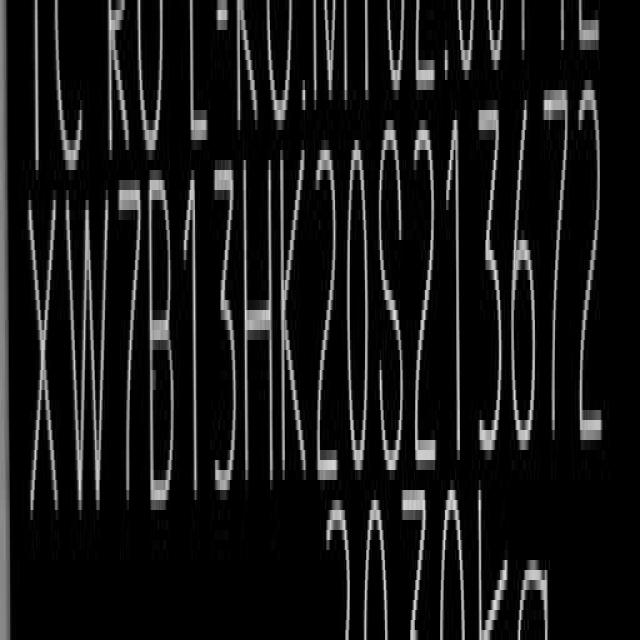0: (343, 130, 369, 463)
1: (181, 170, 203, 497), (444, 108, 464, 460)
2: (576, 66, 606, 478), (412, 115, 440, 489), (316, 134, 338, 482)
3: (208, 137, 239, 493), (477, 97, 504, 470)
6: (507, 92, 539, 466)
7: (542, 74, 572, 459), (116, 170, 142, 504)
B: (145, 163, 176, 511)
H: (240, 145, 278, 485)
K: (277, 130, 309, 496)
S: (375, 114, 403, 467)
W: (62, 166, 114, 514)
Z: (26, 170, 60, 544)
